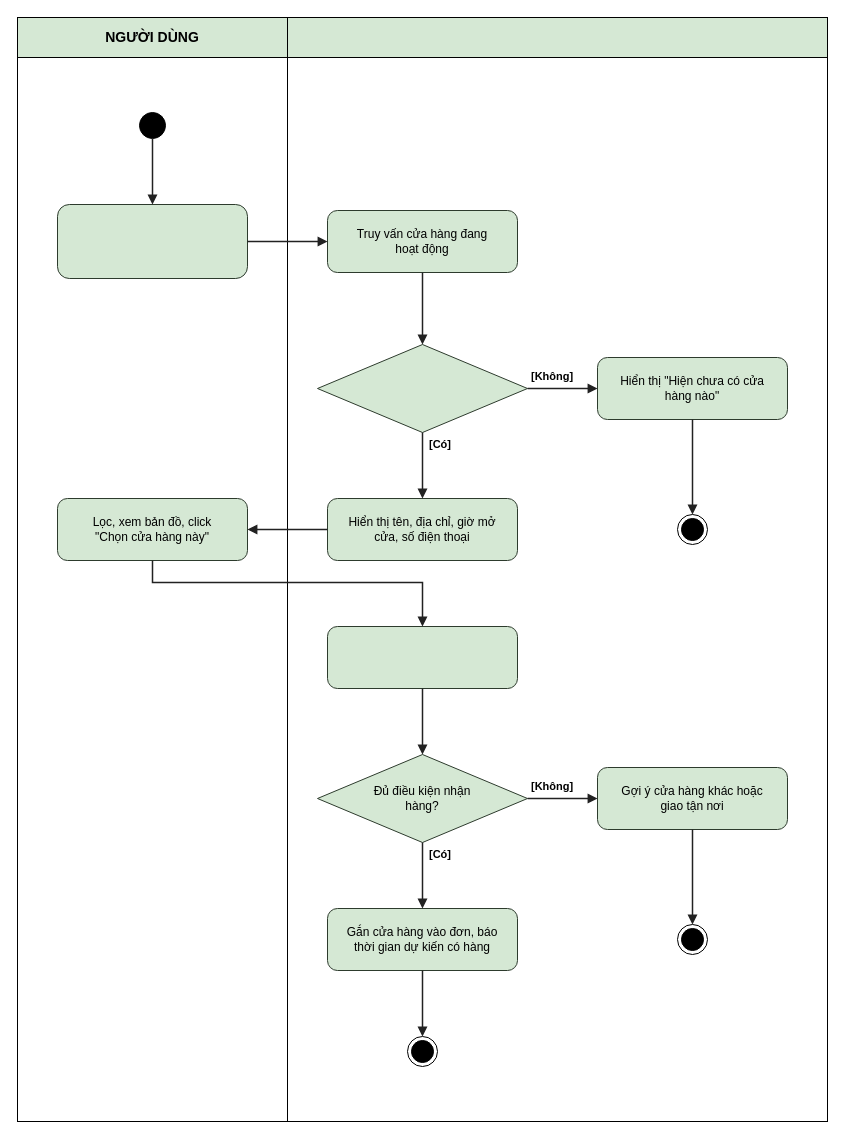
Some shapes in this 845 by 1139 pixel diagram are drawn without their labels. The shapes that lost their labels are listed below. From the top down, each one's centre as x and y in pixels, then its label:
(557,37): HỆ THỐNG
(152,241): Click "Danh sách cửa hàng" hoặc chọn "Nhận tại cửa hàng"
(422,388): Có cửa hàng?
(422,657): Kiểm tra cửa hàng hỗ trợ nhận hàng và đủ hàng
